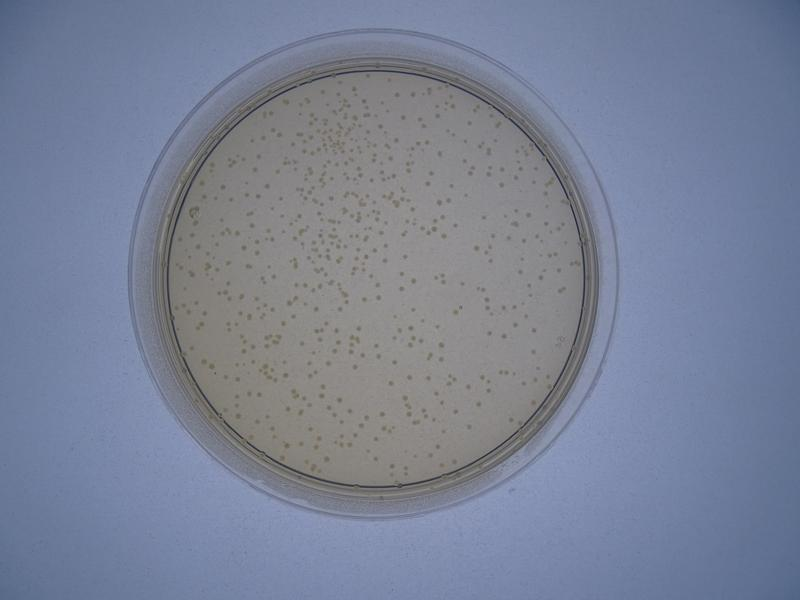colony: (398, 251, 410, 263), (397, 111, 409, 123), (350, 361, 362, 372), (262, 181, 273, 192), (387, 377, 396, 389), (436, 147, 445, 158), (457, 278, 466, 289), (409, 274, 417, 286), (239, 242, 247, 254), (283, 403, 291, 415), (479, 212, 488, 222), (378, 409, 387, 419), (530, 325, 539, 335), (278, 318, 288, 327), (218, 216, 225, 223)
